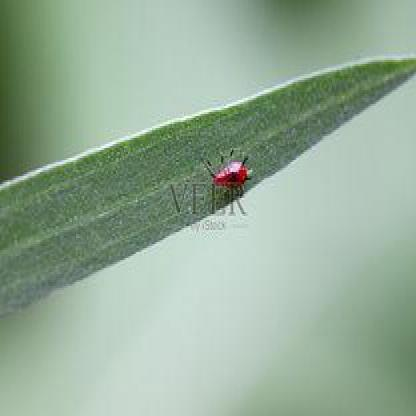aphid: (203, 145, 253, 209)
